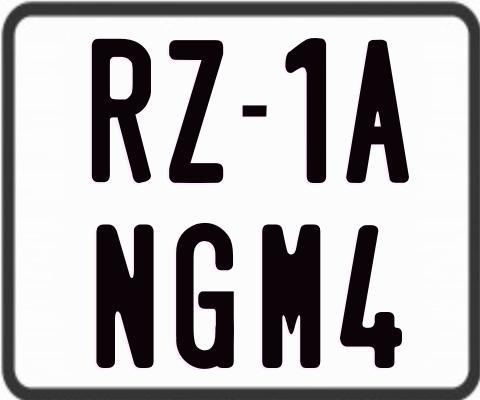1: (282, 36, 327, 183)
4: (338, 225, 400, 374)
A: (343, 40, 411, 185)
G: (176, 221, 238, 372)
M: (260, 222, 318, 367)
N: (93, 224, 155, 368)
R: (89, 39, 152, 187)
Z: (167, 37, 222, 182)
